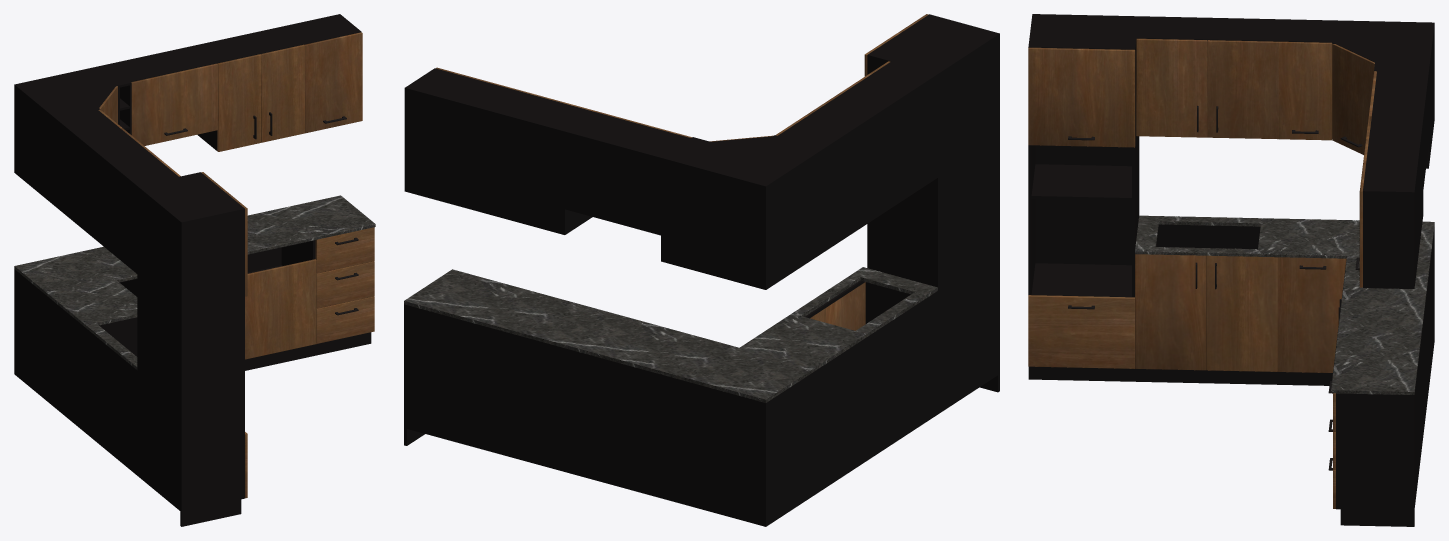
Rendered from kitchen_cabinet_4.glb.
3 views of the same model, side by side, from view 1: azimuth 30°, elevation 25°; view 2: azimuth 150°, elevation 25°; view 3: azimuth 270°, elevation 25° (orthographic). The views are drawn at different scales.
Parts seen in each view (by area): view 1: kitchen_model_2objcleanermaterialmergergles; view 2: kitchen_model_2objcleanermaterialmergergles; view 3: kitchen_model_2objcleanermaterialmergergles.
Boxes of the visible parts, bbox=[...] form: kitchen_model_2objcleanermaterialmergergles: bbox=[14, 14, 375, 526]; kitchen_model_2objcleanermaterialmergergles: bbox=[404, 14, 999, 526]; kitchen_model_2objcleanermaterialmergergles: bbox=[1028, 14, 1434, 526].
Size of the model in its own units: 3.08 by 2.69 by 2.96.
Materials: 4 (2 with a texture image).
